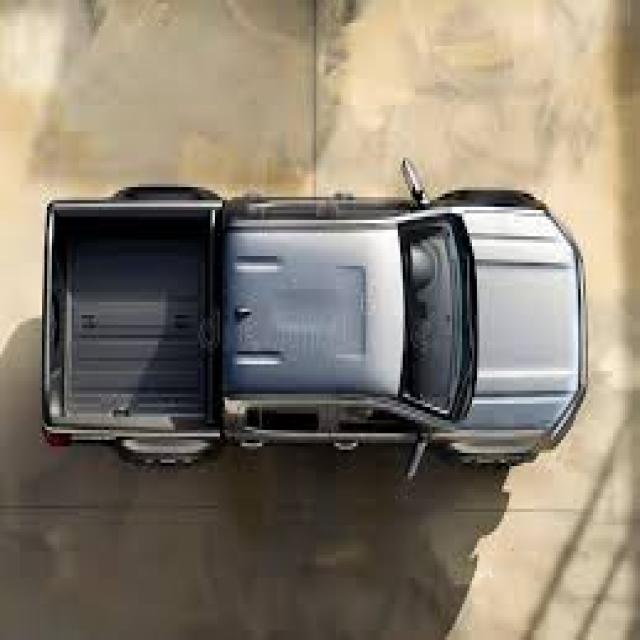truck: (34, 178, 588, 458)
